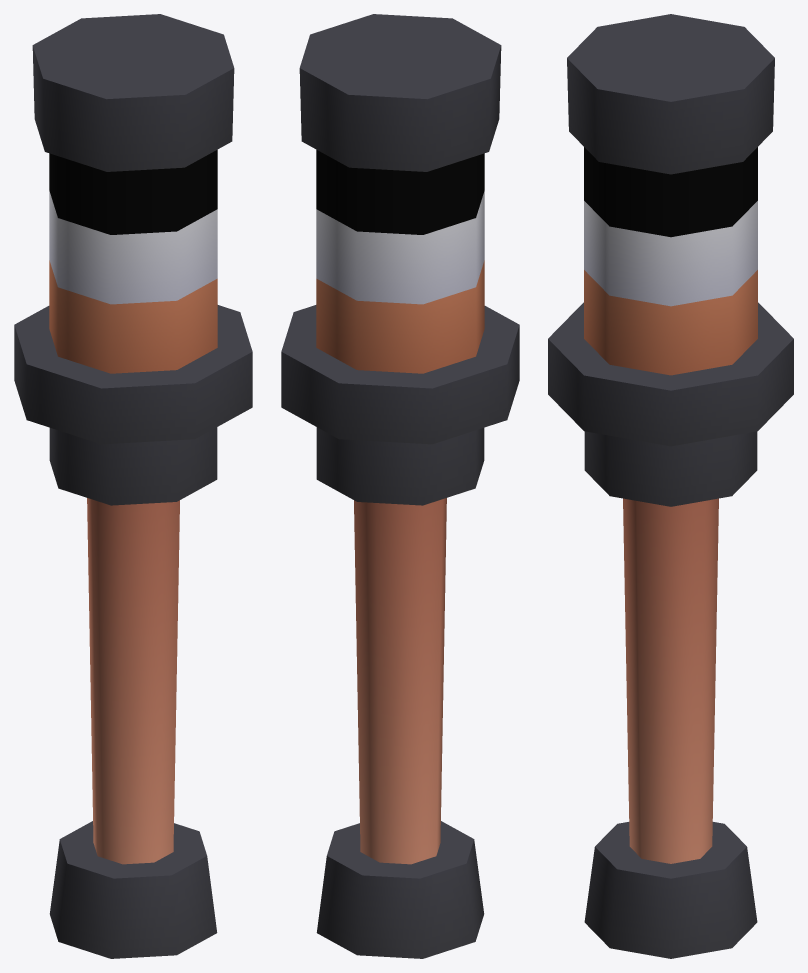
File: warning-traffic.obj
3 views of the same model, side by side, from view 1: azimuth 30°, elevation 25°; view 2: azimuth 150°, elevation 25°; view 3: azimuth 270°, elevation 25° (orthographic).
Visible parts, largest first — view 1: warning-traffic; view 2: warning-traffic; view 3: warning-traffic.
Boxes of the visible parts, x1=… form: warning-traffic: x1=14, y1=14, x2=252, y2=958; warning-traffic: x1=281, y1=14, x2=519, y2=958; warning-traffic: x1=548, y1=14, x2=793, y2=958.
Bounding box in the file's own units: 0.4 × 1.55 × 0.4.
